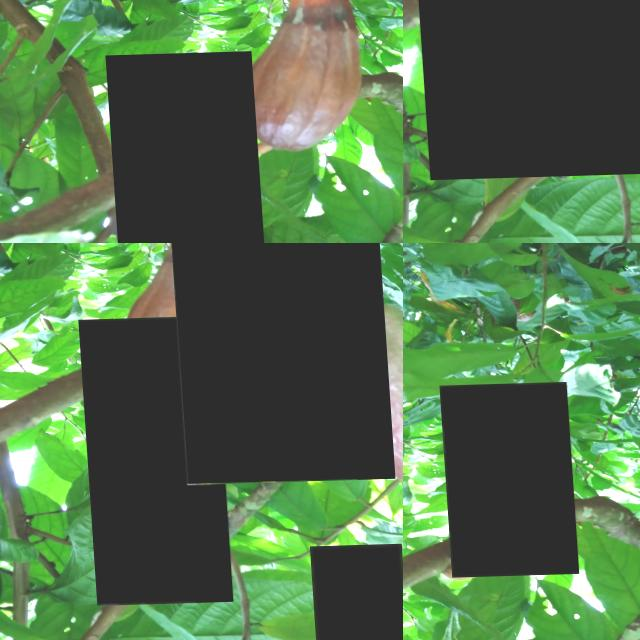Fitoftora: (162, 243, 388, 486), (101, 52, 260, 243), (437, 384, 574, 579)
Monilia: (403, 0, 640, 181)
Sana: (74, 318, 225, 607), (302, 547, 400, 640)
